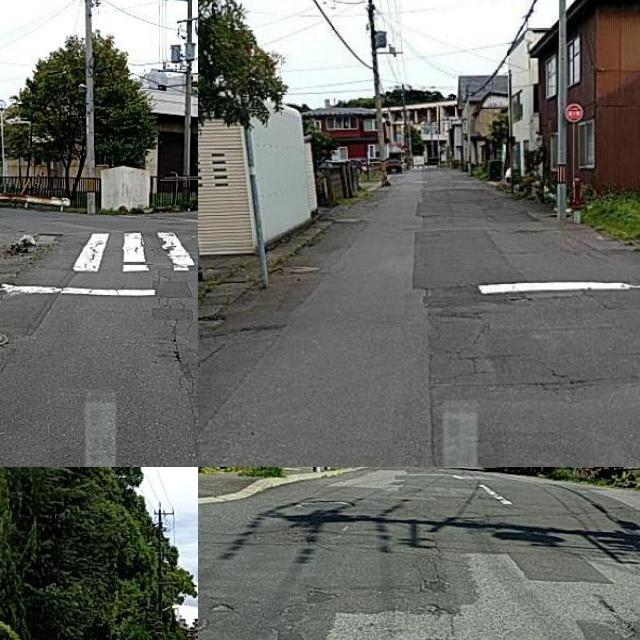Sambungan: (198, 183, 432, 467), (316, 548, 640, 640)
